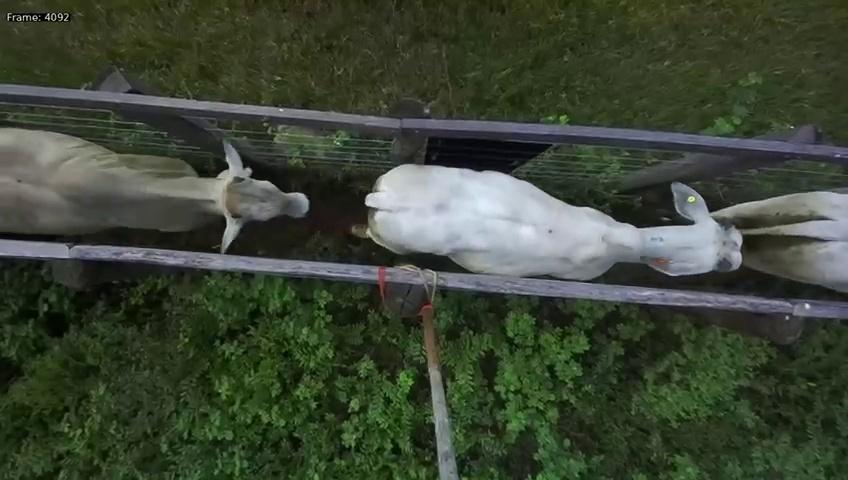cattle: (347, 146, 746, 296), (0, 132, 310, 256)
